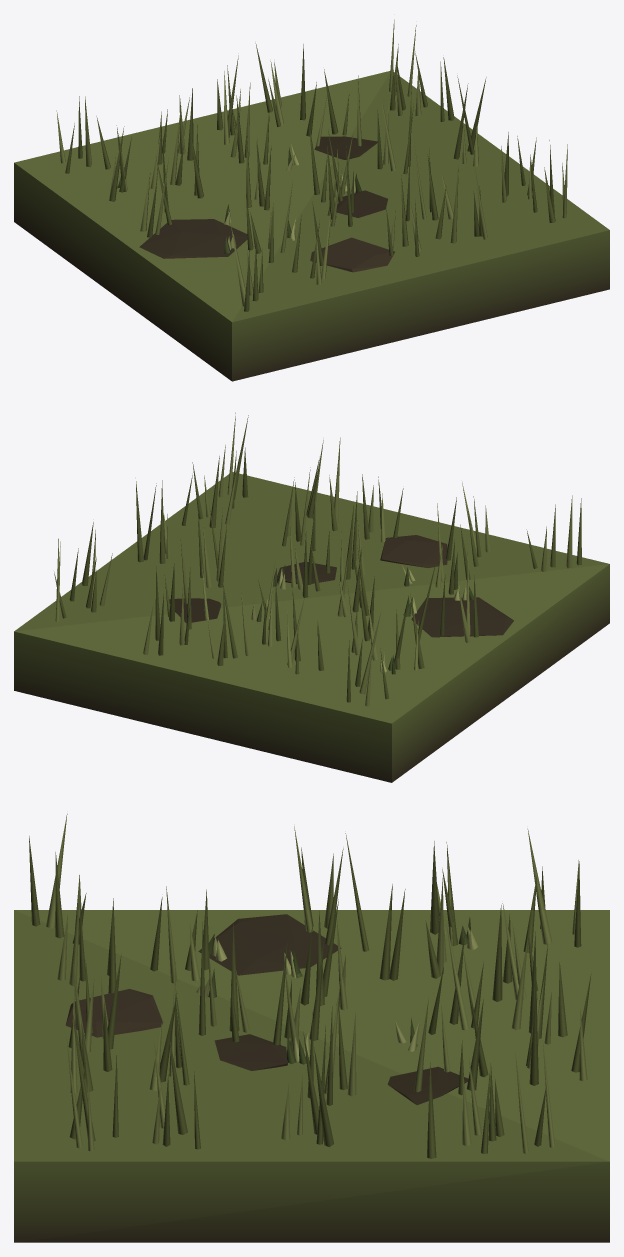
File: reed-marsh-tile.glb
3 views of the same model, one above another, from view 1: azimuth 30°, elevation 25°; view 2: azimuth 150°, elevation 25°; view 3: azimuth 270°, elevation 25° (orthographic). The views are drawn at different scales.
Visible parts, largest first — view 1: reed_marsh_tile; view 2: reed_marsh_tile; view 3: reed_marsh_tile.
Boxes of the visible parts, x1,y1,x2,y2 form: reed_marsh_tile: (14, 19, 609, 381); reed_marsh_tile: (14, 412, 609, 782); reed_marsh_tile: (14, 813, 609, 1242).
Bounding box in the file's own units: 4 × 1.45 × 4.
